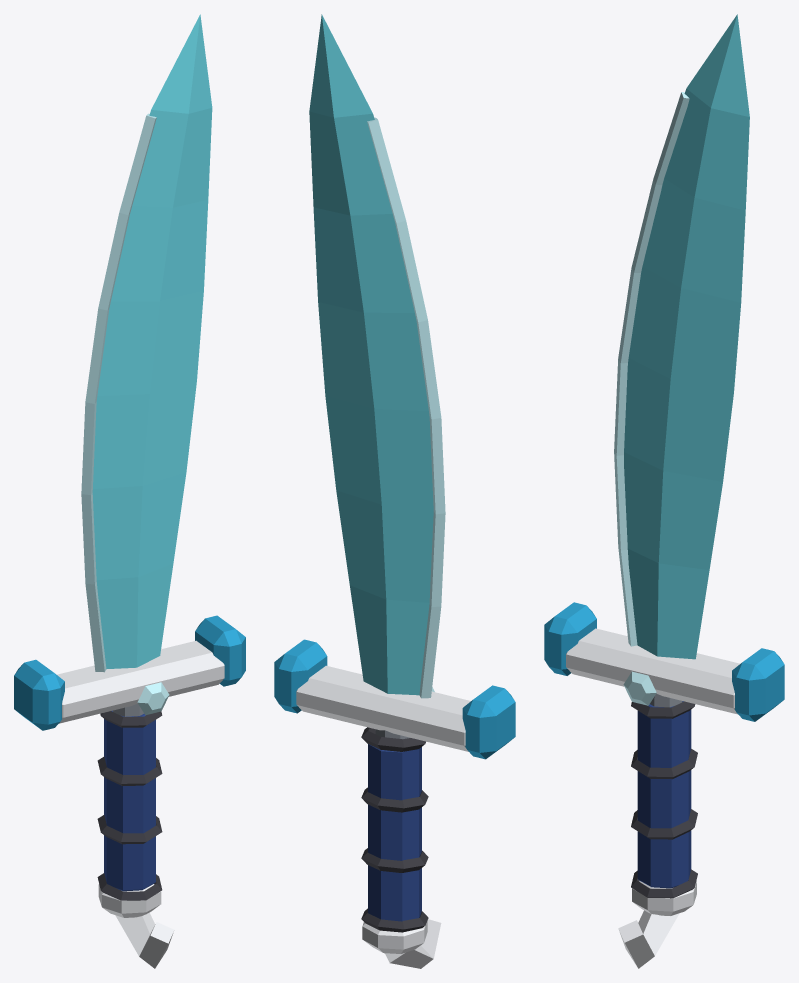
The model's file is DiamondScimitar.fbx.
3 views of the same model, side by side, from view 1: azimuth 30°, elevation 25°; view 2: azimuth 150°, elevation 25°; view 3: azimuth 330°, elevation 25° (orthographic). The views are drawn at different scales.
Parts seen in each view (by area): view 1: DiamondScimitar; view 2: DiamondScimitar; view 3: DiamondScimitar.
Boxes of the visible parts, x1,y1,x2,y2 form: DiamondScimitar: (14,14,245,968); DiamondScimitar: (274,14,515,968); DiamondScimitar: (544,14,784,968).
Bounding box in the file's own units: 1.06 × 4.37 × 0.4747.
1 material, 1 textured.
